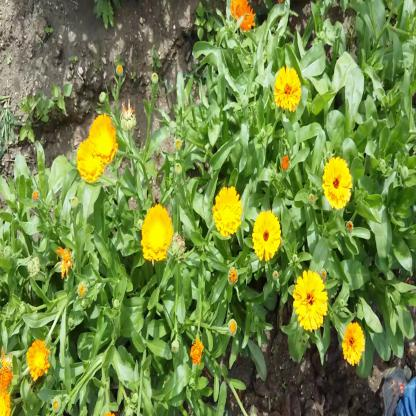marigold: (294, 270, 328, 327), (140, 204, 171, 262), (324, 156, 352, 208), (253, 211, 281, 262), (213, 188, 242, 236), (89, 113, 116, 163), (275, 66, 301, 109), (77, 142, 101, 185), (26, 341, 50, 380), (342, 324, 364, 364)
